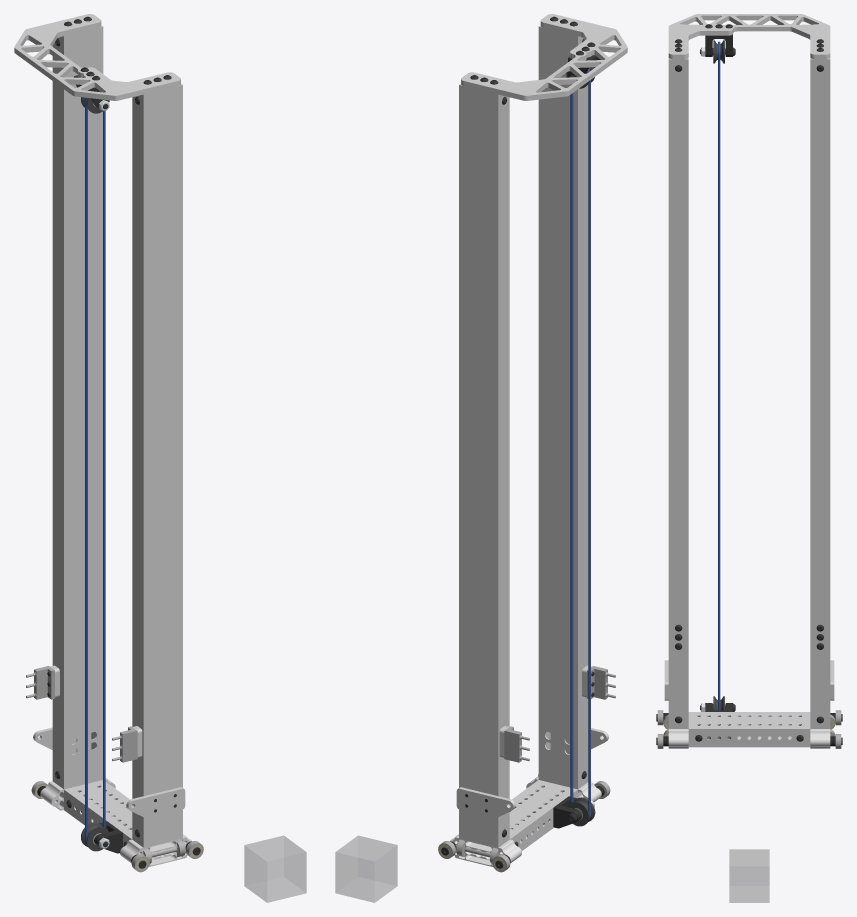
The picture shows the model from 3 angles, left to right: view 1: azimuth 30°, elevation 25°; view 2: azimuth 150°, elevation 25°; view 3: azimuth 270°, elevation 25°; orthographic projection. The views are drawn at different scales.
Visible parts, largest first — view 1: 2813-O2025-P2001, 2813-O2025-P2002, 2813-O2025-P2025, Nylon Cord, Origin Cube, 2813-O2025-P2008, #25 Chain Attachment Part (×2), 2813-O2025-P2036, WCP-0199-001 Rev2; view 2: 2813-O2025-P2002, 2813-O2025-P2001, Nylon Cord, 2813-O2025-P2025, Origin Cube, 2813-O2025-P2008, #25 Chain Attachment Part (×2), 2813-O2025-P2036, WCP-0199-001 Rev2; view 3: 2813-O2025-P2001, 2813-O2025-P2002, 2813-O2025-P2008, 2813-O2025-P2025, Origin Cube, Nylon Cord, WCP-0199-001 Rev2 (×2), Cascade Elevator Pulley Block (WCP)--1/4 Drilled.
Part boxes in pixels (<box>): 2813-O2025-P2001: <box>132,83,182,847</box>; 2813-O2025-P2002: <box>52,25,103,789</box>; 2813-O2025-P2025: <box>14,14,180,100</box>; Nylon Cord: <box>85,97,105,844</box>; Origin Cube: <box>244,835,306,902</box>; 2813-O2025-P2008: <box>64,780,132,846</box>; #25 Chain Attachment Part (×2): <box>26,666,137,762</box>; 2813-O2025-P2036: <box>126,787,185,818</box>; WCP-0199-001 Rev2: <box>120,834,191,867</box>; 2813-O2025-P2002: <box>459,83,509,847</box>; 2813-O2025-P2001: <box>538,25,588,789</box>; Nylon Cord: <box>570,69,590,818</box>; 2813-O2025-P2025: <box>461,14,627,100</box>; Origin Cube: <box>335,835,397,902</box>; 2813-O2025-P2008: <box>509,780,577,850</box>; #25 Chain Attachment Part (×2): <box>504,666,615,762</box>; 2813-O2025-P2036: <box>456,787,515,818</box>; WCP-0199-001 Rev2: <box>450,834,521,867</box>; 2813-O2025-P2001: <box>668,58,688,728</box>; 2813-O2025-P2002: <box>810,58,830,728</box>; 2813-O2025-P2008: <box>688,712,810,747</box>; 2813-O2025-P2025: <box>668,14,830,59</box>; Origin Cube: <box>729,849,769,902</box>; Nylon Cord: <box>718,41,720,710</box>; WCP-0199-001 Rev2 (×2): <box>668,729,830,748</box>; Cascade Elevator Pulley Block (WCP)--1/4 Drilled: <box>705,34,732,56</box>.
Bounding box in the file's own units: 0.3238 × 1.08 × 0.2333.
